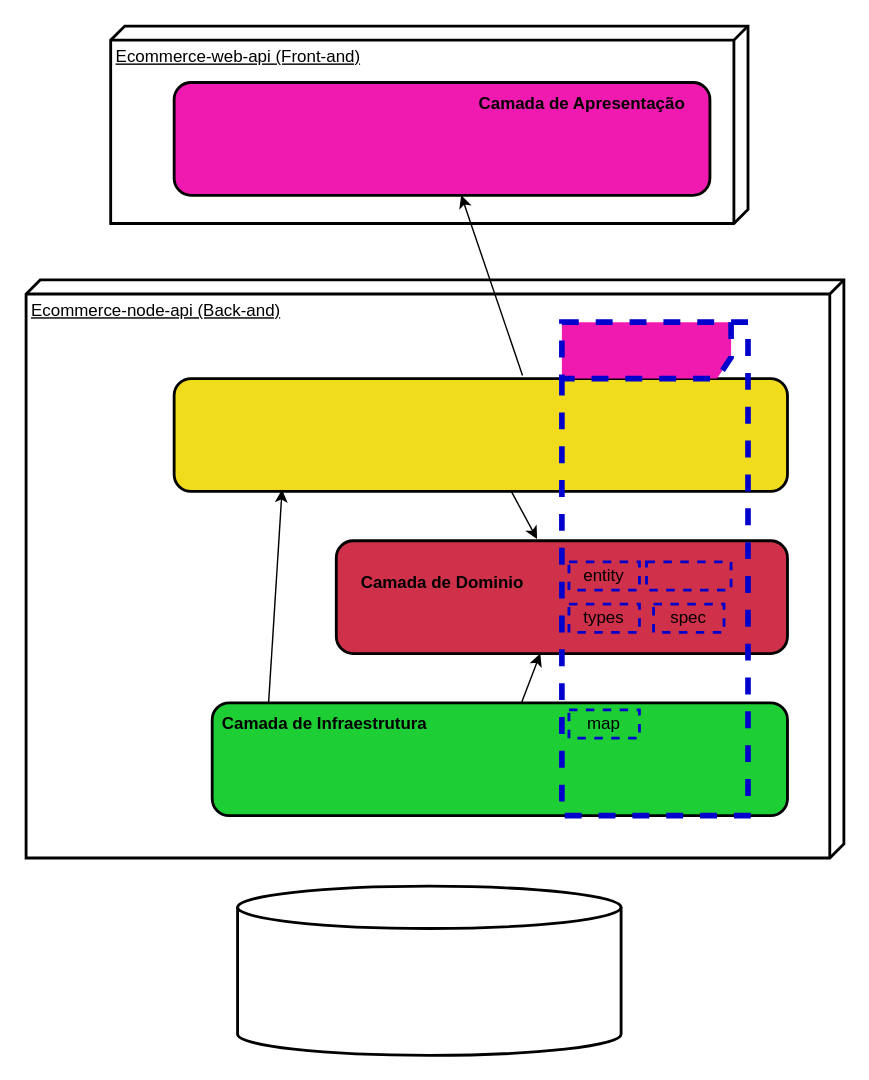
Some shapes in this 869 by 1080 pixel diagram are drawn without their labels. The centre of each missing label's shape, as x and y in pixels:
"Camada de Aplicação" belongs at (x=480, y=434).
"Database (Relacionall)" belongs at (x=428, y=970).
"exception" belongs at (x=688, y=575).
"Módulo/Subdominio" belongs at (x=654, y=568).
